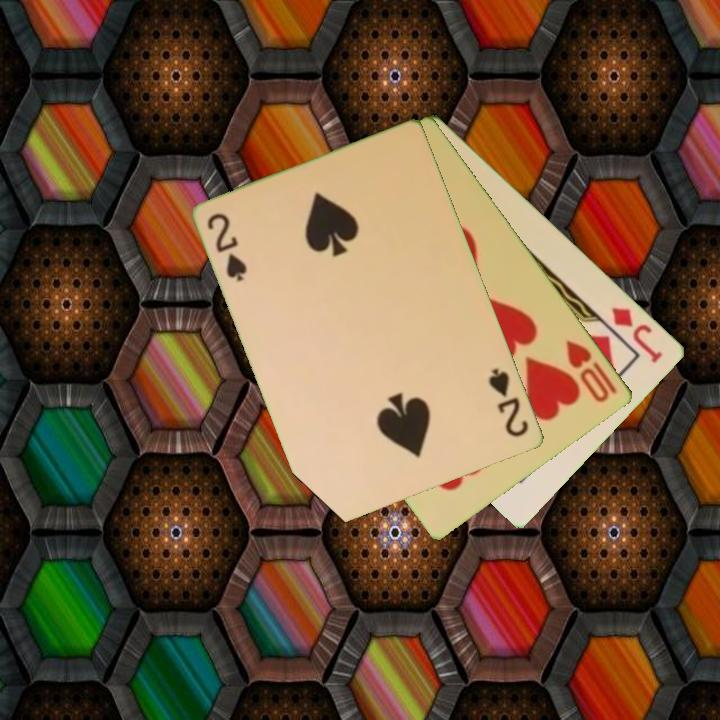10h: (562, 336, 621, 406)
2s: (485, 364, 533, 441), (204, 209, 251, 285)
Jd: (608, 303, 666, 366)
